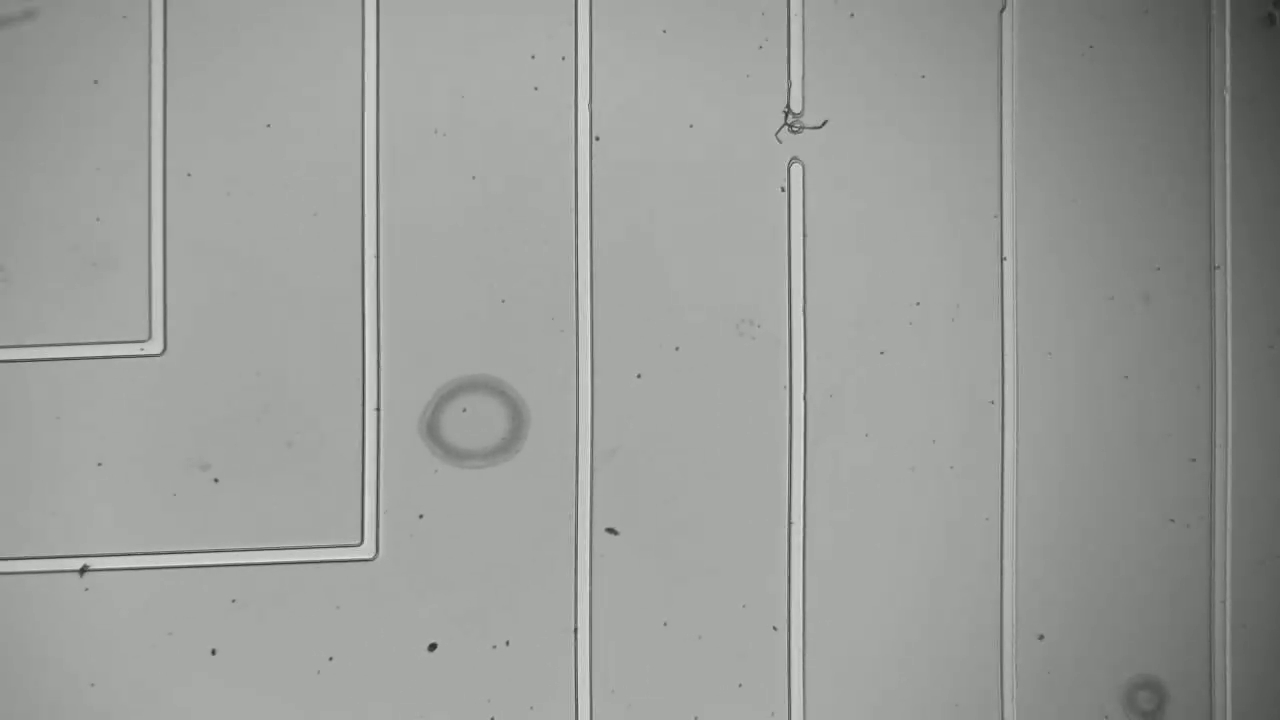edge_bite: (994, 1, 1025, 22)
open: (781, 92, 813, 178)
stains_enbedded: (70, 547, 98, 583)
